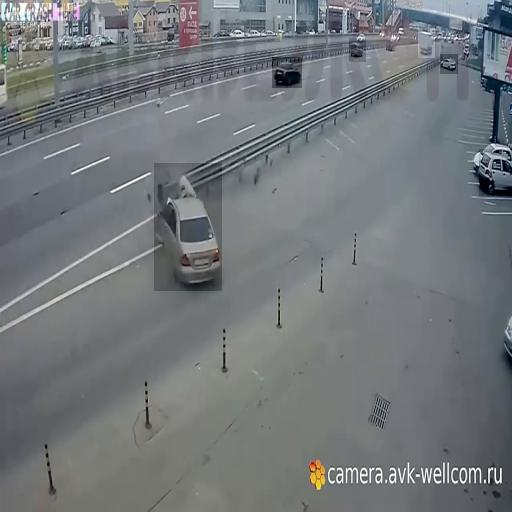小汽车: (479, 149, 512, 196), (272, 57, 302, 88), (418, 28, 435, 58), (349, 38, 366, 62), (440, 54, 458, 74)
小汽车撞物: (154, 163, 222, 291)
